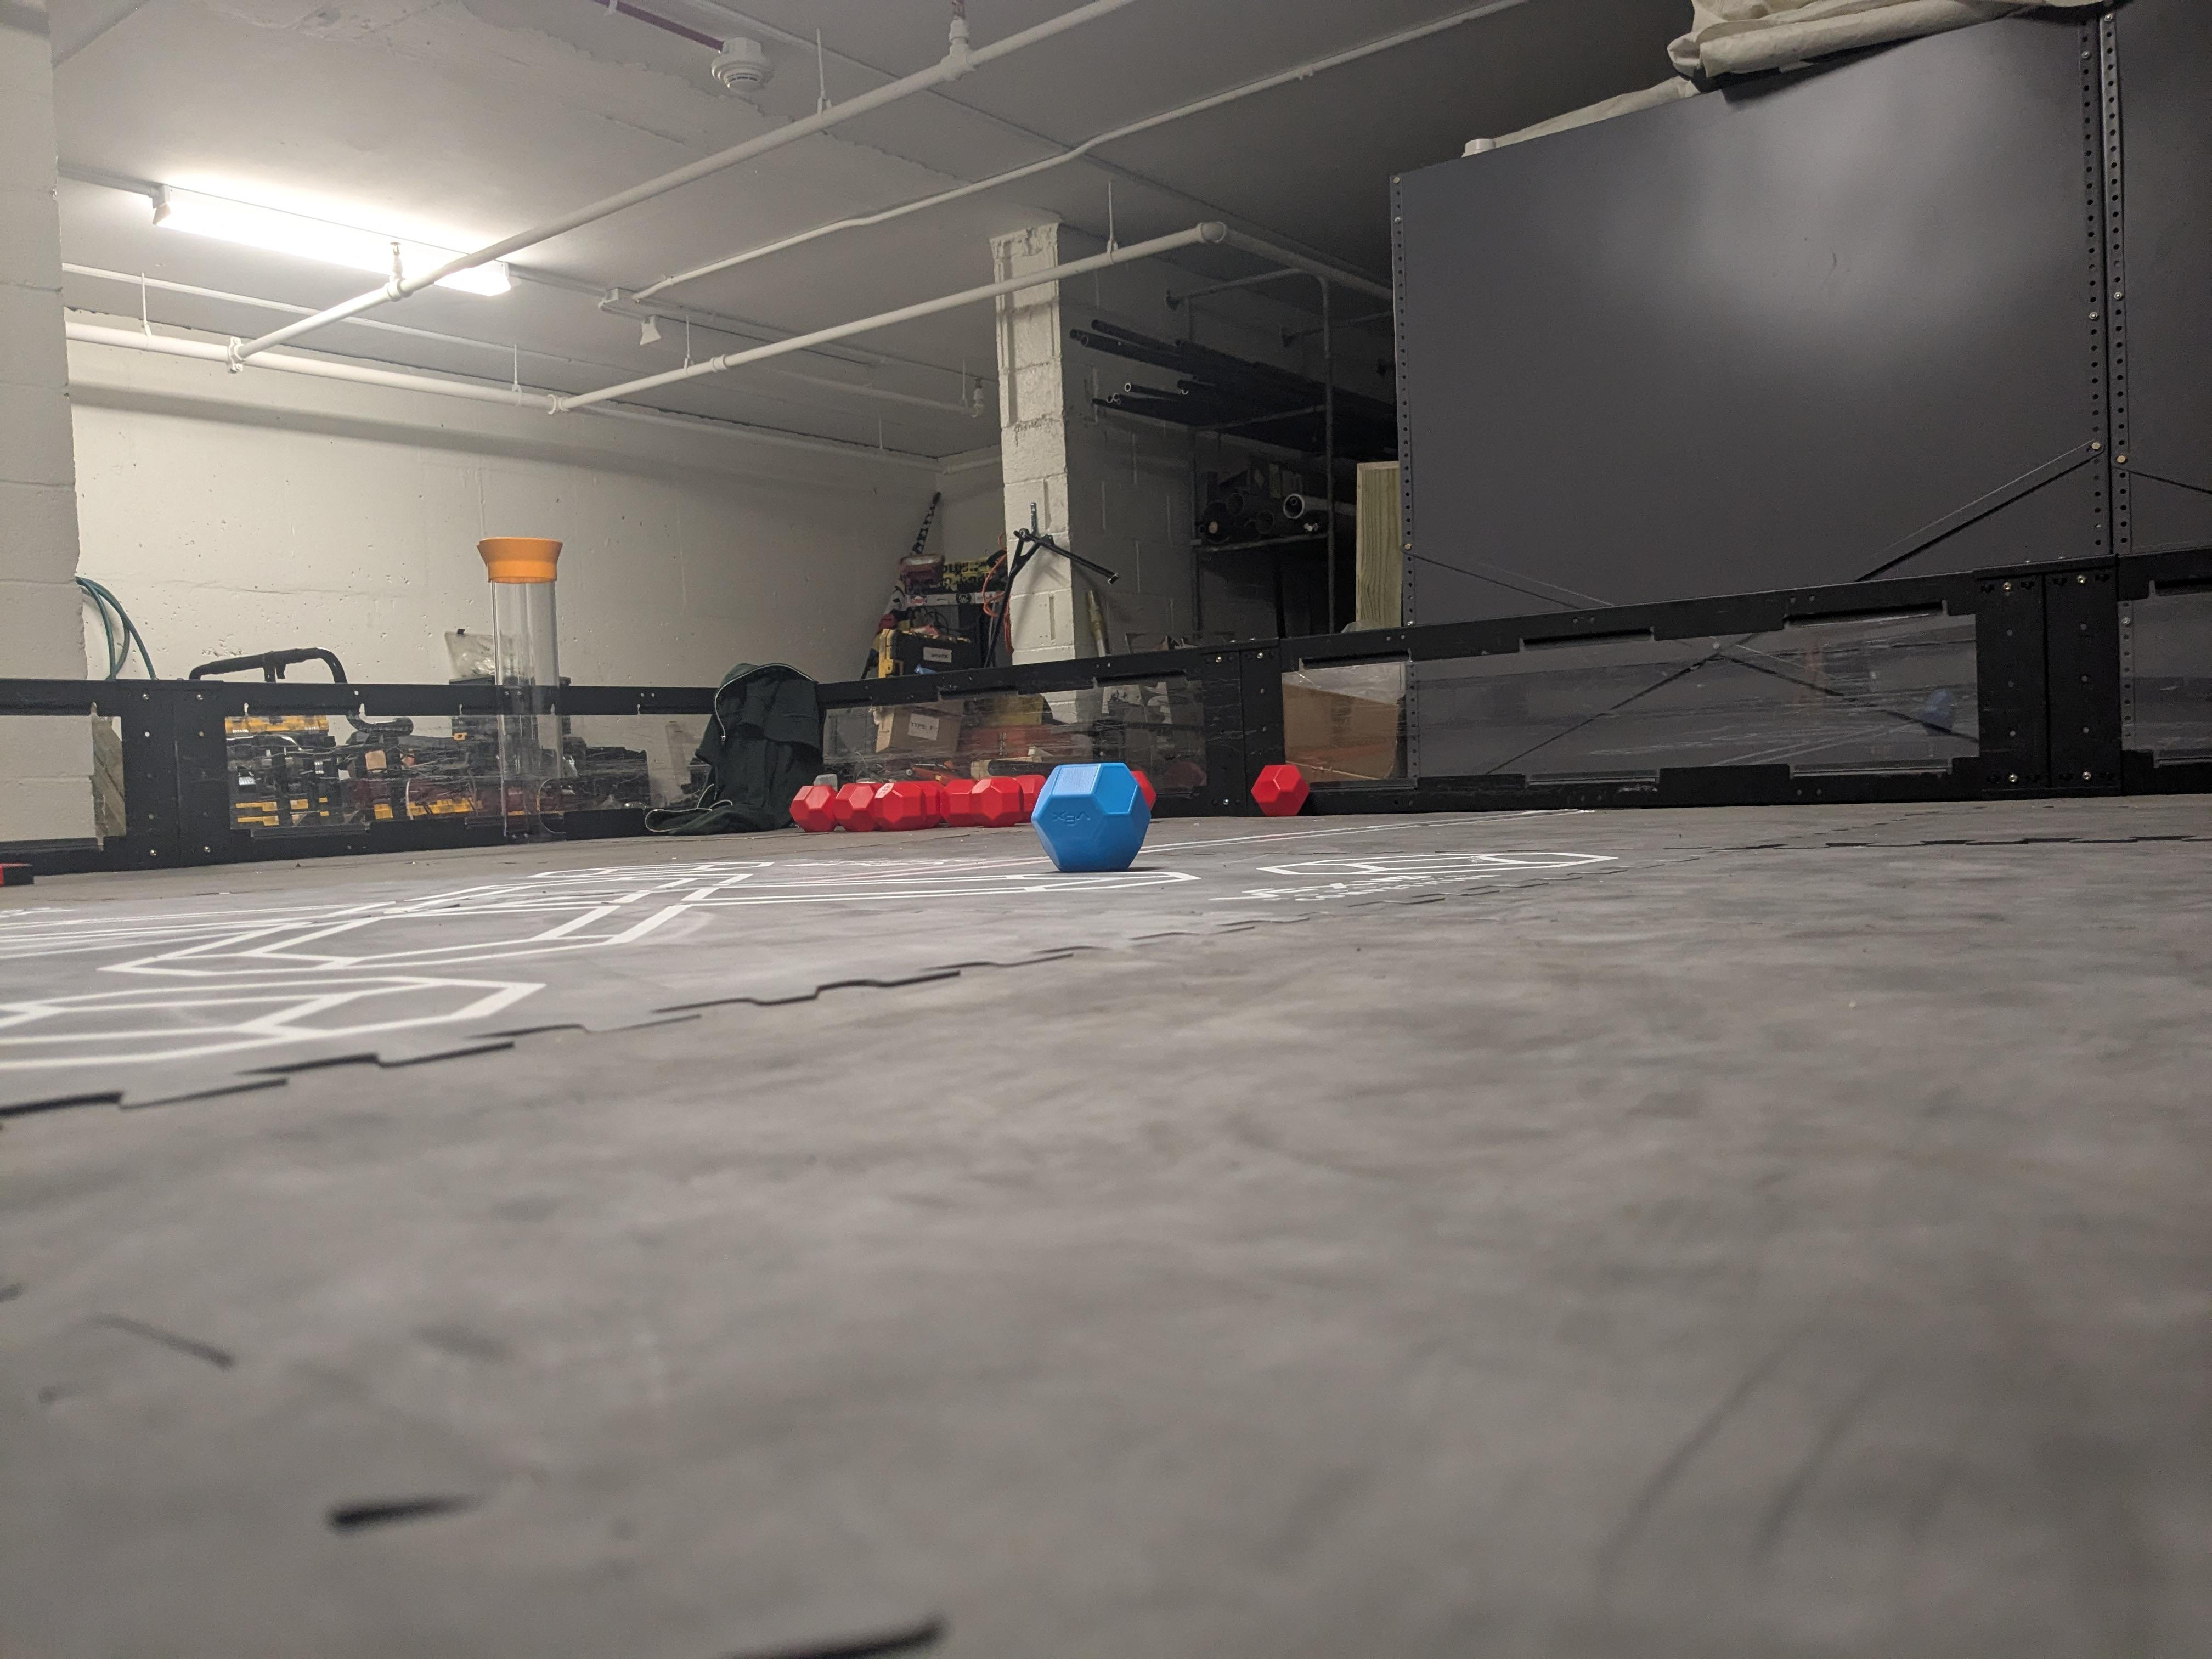Vex-Pieces-BLUE: (1033, 765, 1151, 868)
